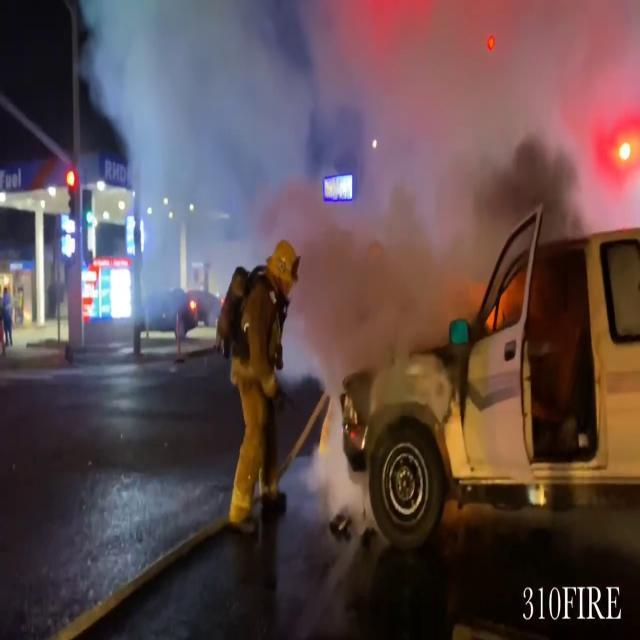Smoke: (82, 0, 632, 309)
